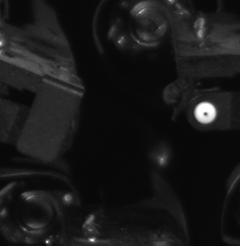fiber: (191, 99, 221, 128)
